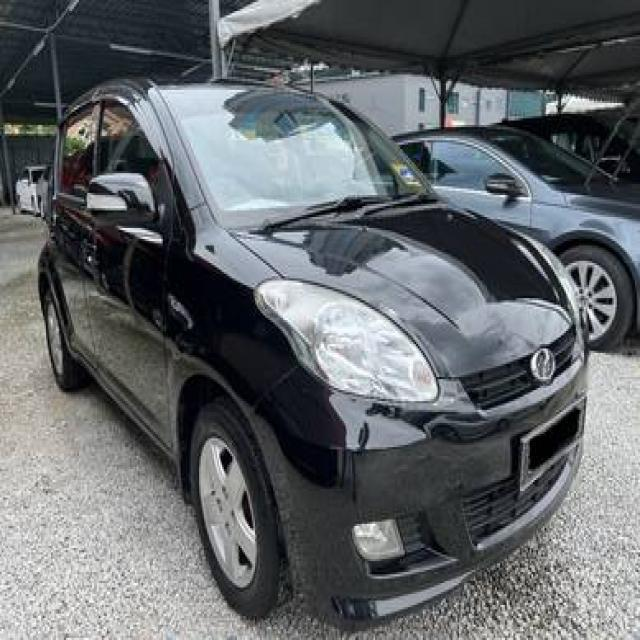PeroduaMyvi: (34, 72, 590, 629)
